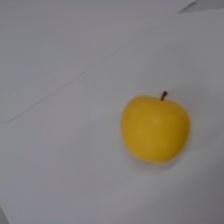yellow: (118, 84, 193, 164)
